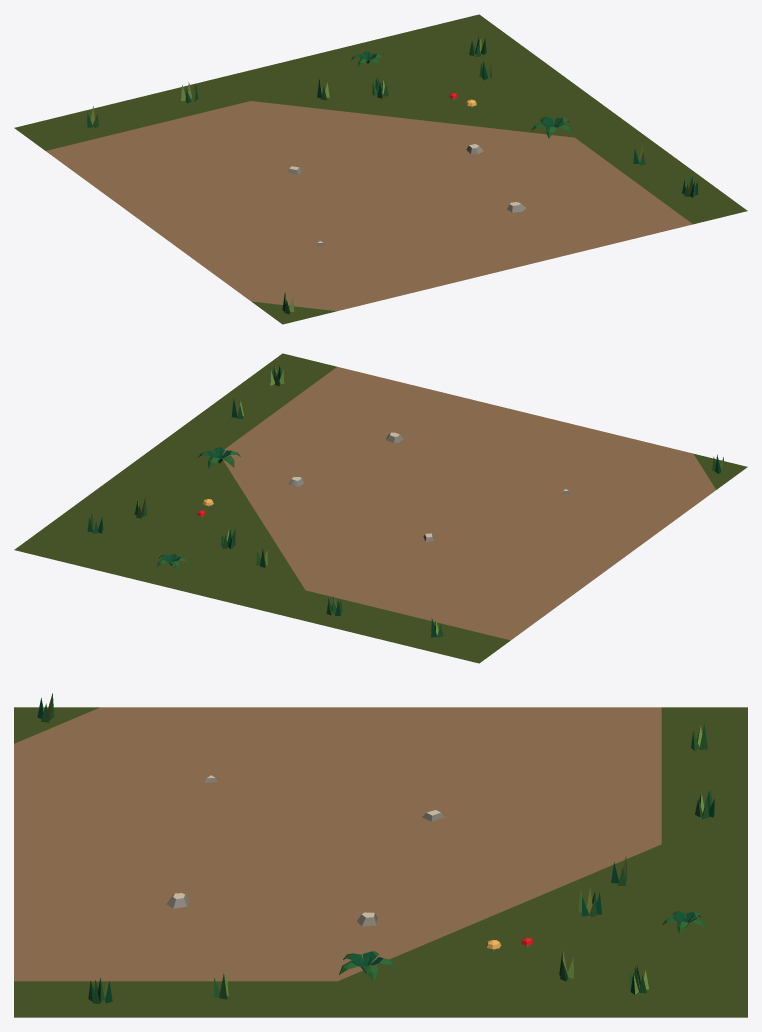
File: TB_Env_GroundDA.FBX
3 renders of one model, top to bottom at view 1: azimuth 30°, elevation 25°; view 2: azimuth 150°, elevation 25°; view 3: azimuth 270°, elevation 25°, orthographic. The views are drawn at different scales.
Visible parts, largest first — view 1: TB_Env_GroundDA; view 2: TB_Env_GroundDA; view 3: TB_Env_GroundDA.
Boxes of the visible parts, x1=… form: TB_Env_GroundDA: x1=14, y1=14, x2=747, y2=324; TB_Env_GroundDA: x1=14, y1=353, x2=747, y2=663; TB_Env_GroundDA: x1=14, y1=693, x2=747, y2=1017.
Bounding box in the file's own units: 10 × 0.394 × 10.
